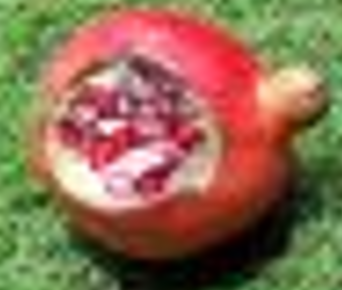pomegranate_C: (31, 9, 331, 263)
